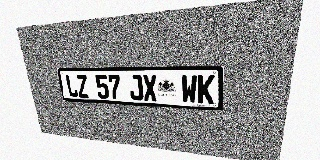5: (95, 75, 110, 99)
7: (107, 75, 122, 100)
J: (128, 75, 144, 101)
K: (197, 75, 215, 104)
L: (65, 75, 79, 97)
W: (181, 75, 197, 103)
X: (142, 75, 158, 101)
Z: (75, 75, 90, 98)
